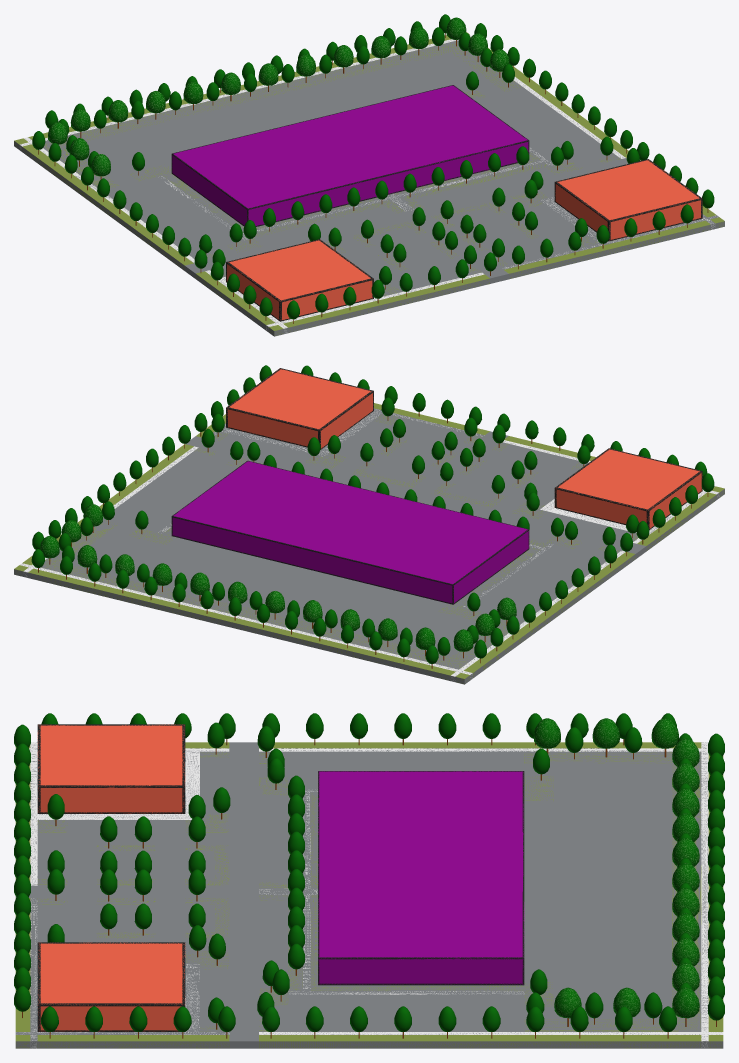
Rendered from practice_E.dae.
3 views of the same model, one above another, from view 1: azimuth 30°, elevation 25°; view 2: azimuth 150°, elevation 25°; view 3: azimuth 270°, elevation 25° (orthographic). The views are drawn at different scales.
Visible parts, largest first — view 1: group_5 (×19), group_4 (×4), group_3 (×4), group_2 (×4); view 2: group_5 (×15), group_4 (×4), group_3 (×4), group_2 (×4); view 3: group_5 (×19), group_4 (×3), group_2 (×3), group_3 (×3), Tree_z_Icon_3_1 (×16).
Part boxes in pixels (left/top/right/bottom): group_5 (×19): left=20, top=34, right=719, bottom=332; group_4 (×4): left=171, top=85, right=529, bottom=226; group_3 (×4): left=554, top=159, right=702, bottom=241; group_2 (×4): left=226, top=239, right=373, bottom=321; group_5 (×15): left=20, top=403, right=719, bottom=680; group_4 (×4): left=171, top=460, right=529, bottom=604; group_3 (×4): left=226, top=368, right=373, bottom=449; group_2 (×4): left=554, top=448, right=702, bottom=529; group_5 (×19): left=15, top=742, right=723, bottom=1048; group_4 (×3): left=318, top=771, right=524, bottom=985; group_2 (×3): left=37, top=724, right=185, bottom=813; group_3 (×3): left=37, top=942, right=185, bottom=1031; Tree_z_Icon_3_1 (×16): left=533, top=718, right=699, bottom=1018.
Bounding box in the file's own units: 86.91 × 86.92 × 6.11.
